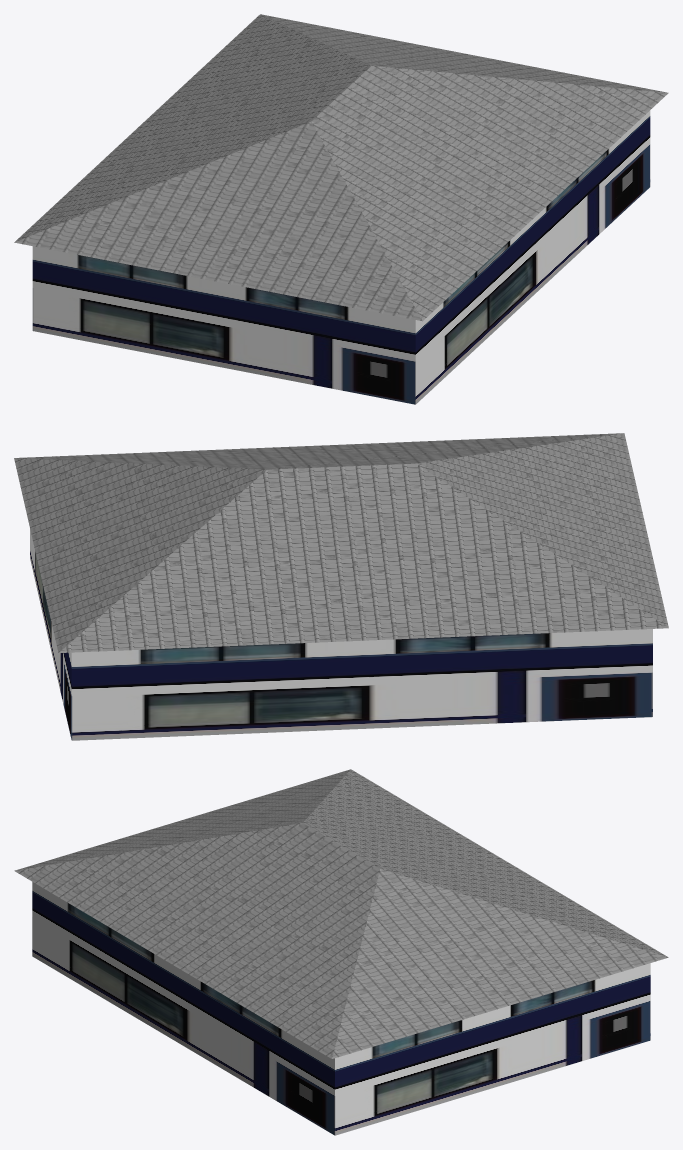
The picture shows the model from 3 angles, top to bottom: view 1: azimuth 30°, elevation 25°; view 2: azimuth 150°, elevation 25°; view 3: azimuth 270°, elevation 25°; orthographic projection. The views are drawn at different scales.
Parts seen in each view (by area): view 1: CityEngineMaterial_4_m, CityEngineMaterial_2_m; view 2: CityEngineMaterial_4_m, CityEngineMaterial_2_m; view 3: CityEngineMaterial_4_m, CityEngineMaterial_2_m.
Part boxes in pixels (box(x1,y1,x2,y2)): CityEngineMaterial_4_m: box(14, 14, 668, 321); CityEngineMaterial_2_m: box(32, 110, 650, 404); CityEngineMaterial_4_m: box(14, 433, 668, 652); CityEngineMaterial_2_m: box(30, 529, 652, 740); CityEngineMaterial_4_m: box(14, 769, 668, 1058); CityEngineMaterial_2_m: box(32, 882, 650, 1135).
Size of the model in its own units: 49.26 by 12.09 by 47.03.
